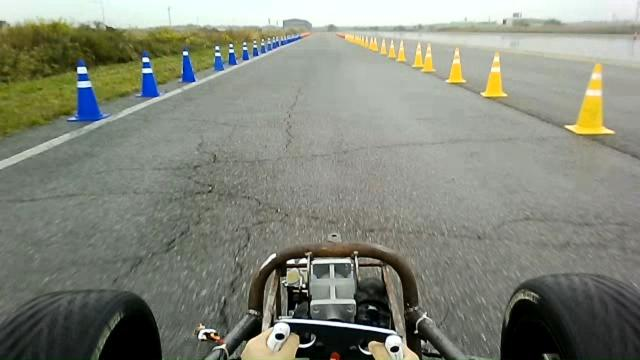blue cone: (66, 58, 111, 122), (136, 50, 160, 98), (178, 47, 197, 83), (212, 44, 225, 71), (228, 42, 238, 66), (241, 41, 250, 60)
yellow cone: (564, 62, 615, 136), (480, 51, 508, 98), (446, 46, 466, 84), (421, 42, 435, 73), (396, 39, 407, 62), (387, 38, 397, 58)
